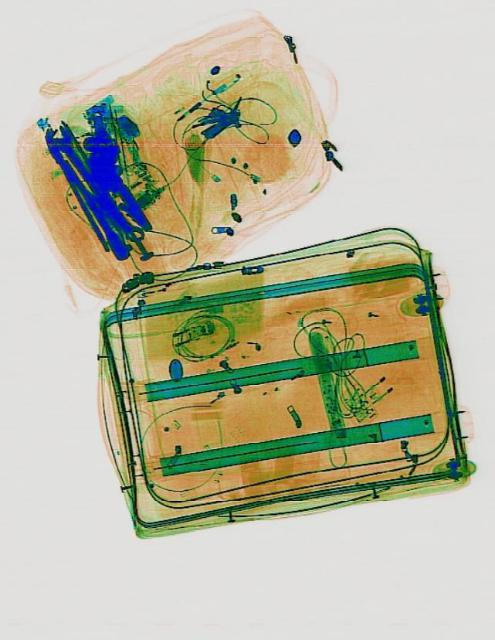Wrench: (43, 118, 147, 250)
